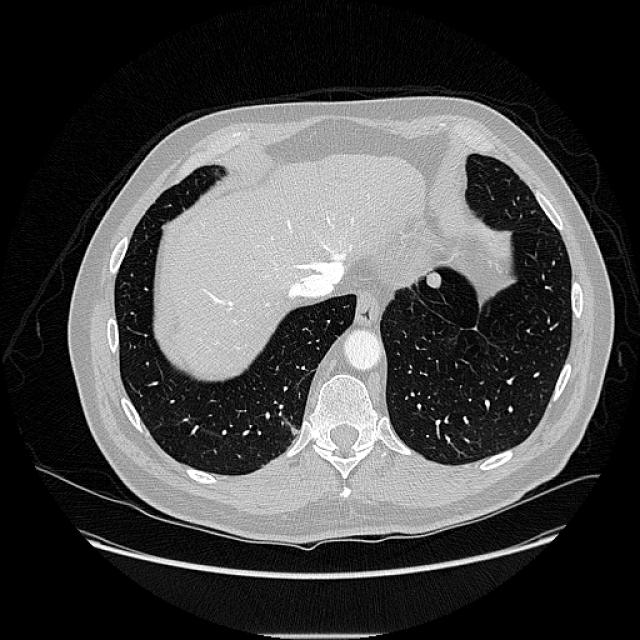nodule: (415, 262, 450, 296)
